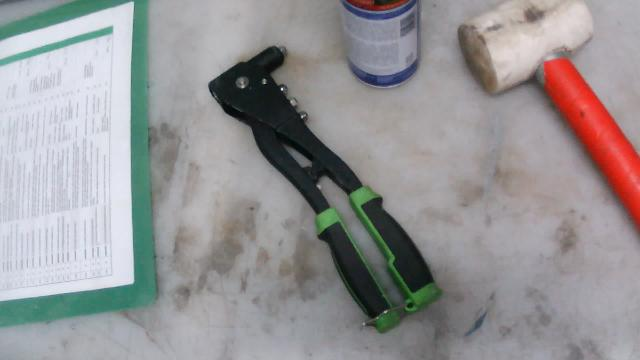tang_rivet: (192, 39, 452, 338)
